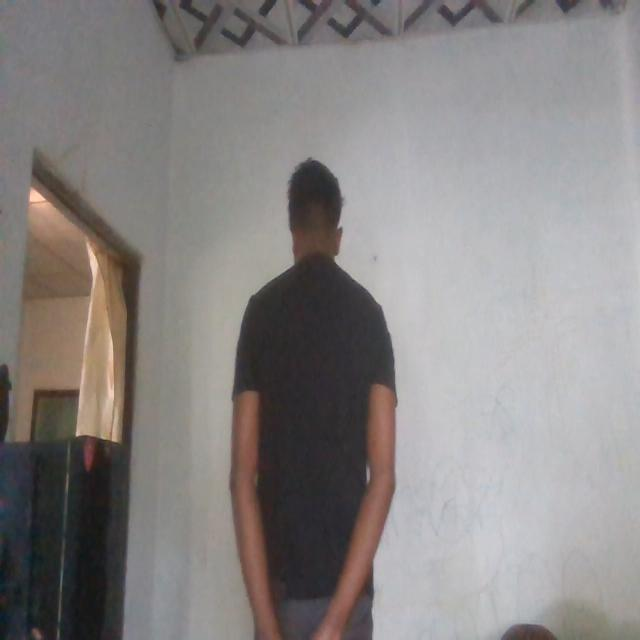Person: (228, 156, 410, 640)
